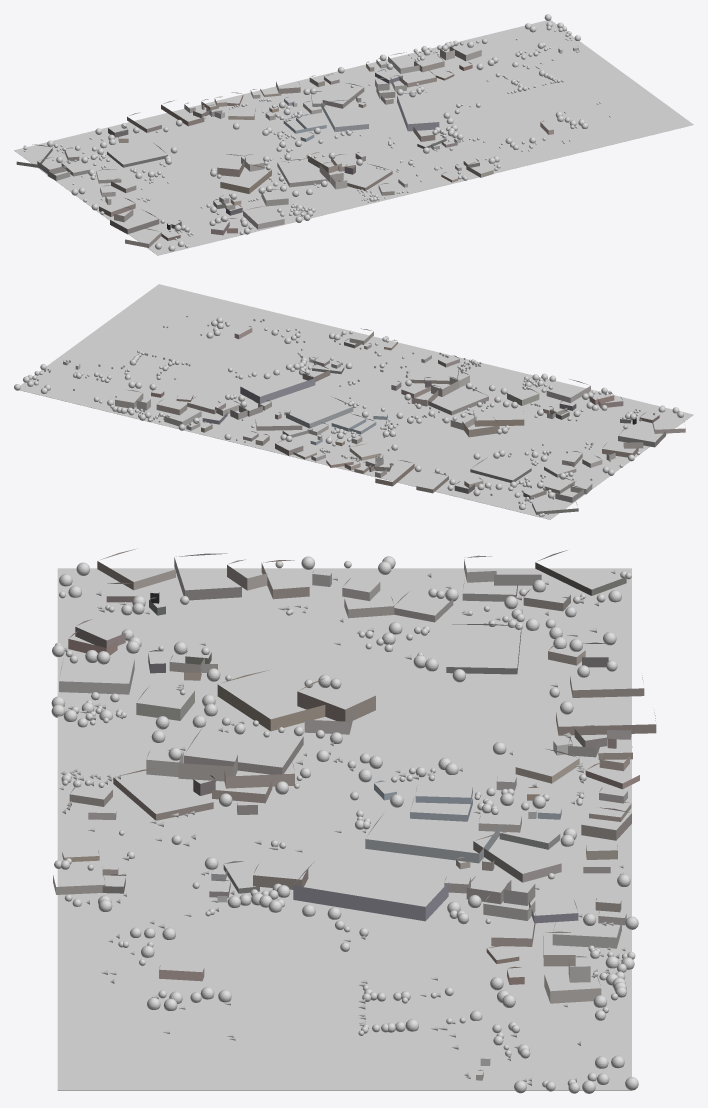
File: scene_304519f7-a27b-46e7-8023-0bad08976e40.glb
3 views of the same model, one above another, from view 1: azimuth 30°, elevation 25°; view 2: azimuth 150°, elevation 25°; view 3: azimuth 270°, elevation 25° (orthographic). The views are drawn at different scales.
Visible parts, largest first — view 1: Ground_Base; view 2: Ground_Base, BLD-001, BLD-002; view 3: Ground_Base, BLD-001, BLD-005, BLD-002, BLD-009, BLD-003, BLD-025, BLD-010, BLD-007, BLD-017, BLD-021, BLD-015 (+1 smaller).
Boxes of the visible parts, x1,y1,x2,y2 form: Ground_Base: (14, 20, 693, 255); Ground_Base: (19, 284, 693, 519); BLD-001: (240, 368, 315, 403); BLD-002: (286, 396, 353, 428); Ground_Base: (57, 568, 631, 1090); BLD-001: (293, 861, 448, 921); BLD-005: (217, 670, 325, 731); BLD-002: (365, 813, 499, 863); BLD-009: (297, 678, 375, 721); BLD-003: (184, 726, 303, 774); BLD-025: (178, 752, 237, 781); BLD-010: (59, 659, 134, 694); BLD-007: (556, 710, 656, 735); BLD-017: (222, 762, 294, 788); BLD-021: (473, 831, 561, 882); BLD-015: (552, 920, 621, 948).
Size of the model in its own units: 1117 by 20.95 by 531.
